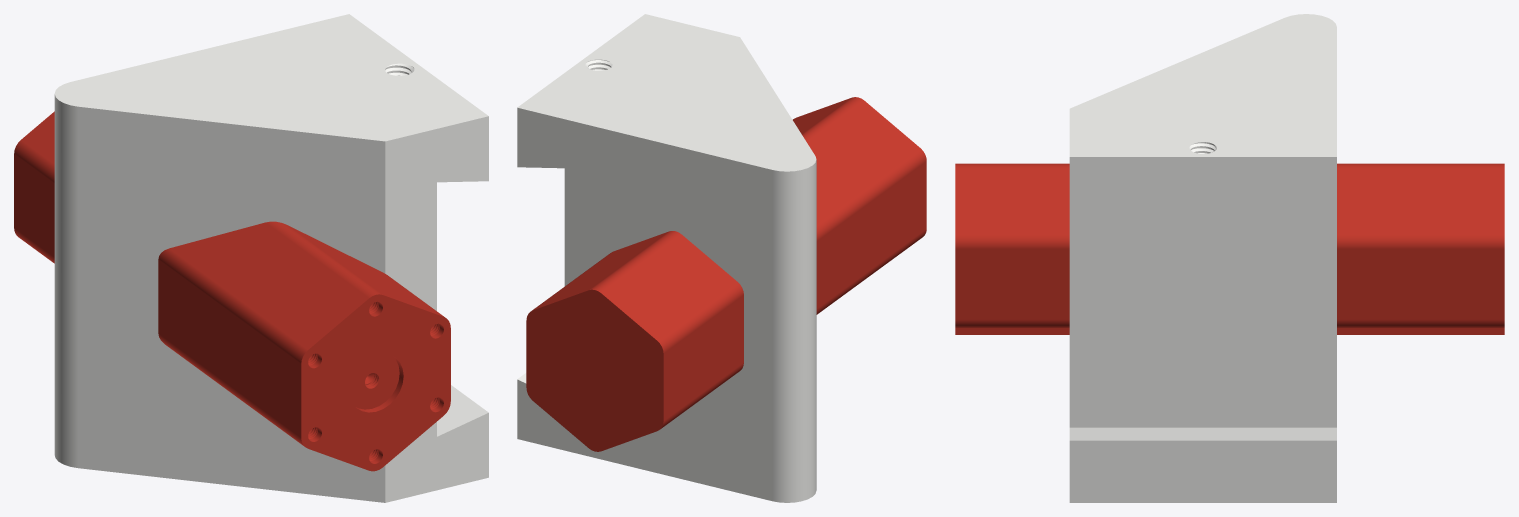
3 views of the same model, side by side, from view 1: azimuth 30°, elevation 25°; view 2: azimuth 150°, elevation 25°; view 3: azimuth 270°, elevation 25° (orthographic). The views are drawn at different scales.
Parts seen in each view (by area): view 1: Main, Polygon; view 2: Main, Polygon; view 3: Main, Polygon.
Part boxes in pixels (x1,y1,x2,y2): Main: (54,14,488,502); Polygon: (14,111,450,471); Main: (517,14,816,502); Polygon: (526,97,926,451); Main: (1069,14,1336,502); Polygon: (955,163,1504,334).
Bounding box in the file's own units: 4.43 × 5 × 7.2.
